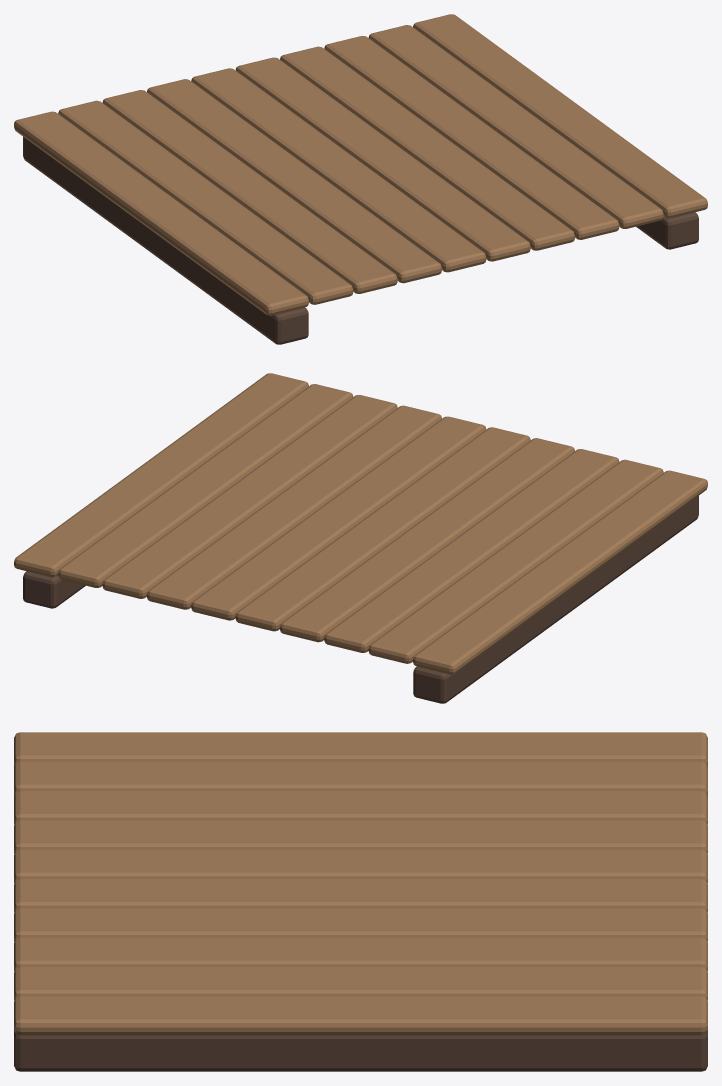
The model's file is floor_cell_2m__structure.glb.
The picture shows the model from 3 angles, top to bottom: view 1: azimuth 30°, elevation 25°; view 2: azimuth 150°, elevation 25°; view 3: azimuth 270°, elevation 25°; orthographic projection. The views are drawn at different scales.
Visible parts, largest first — view 1: floor_cell_2m__structure__mesh_00; view 2: floor_cell_2m__structure__mesh_00; view 3: floor_cell_2m__structure__mesh_00.
Part boxes in pixels (left/top/right/bottom): floor_cell_2m__structure__mesh_00: left=14, top=14, right=707, bottom=344; floor_cell_2m__structure__mesh_00: left=14, top=373, right=707, bottom=703; floor_cell_2m__structure__mesh_00: left=14, top=732, right=707, bottom=1071.
Size of the model in its own units: 1.99 by 0.185 by 2.
